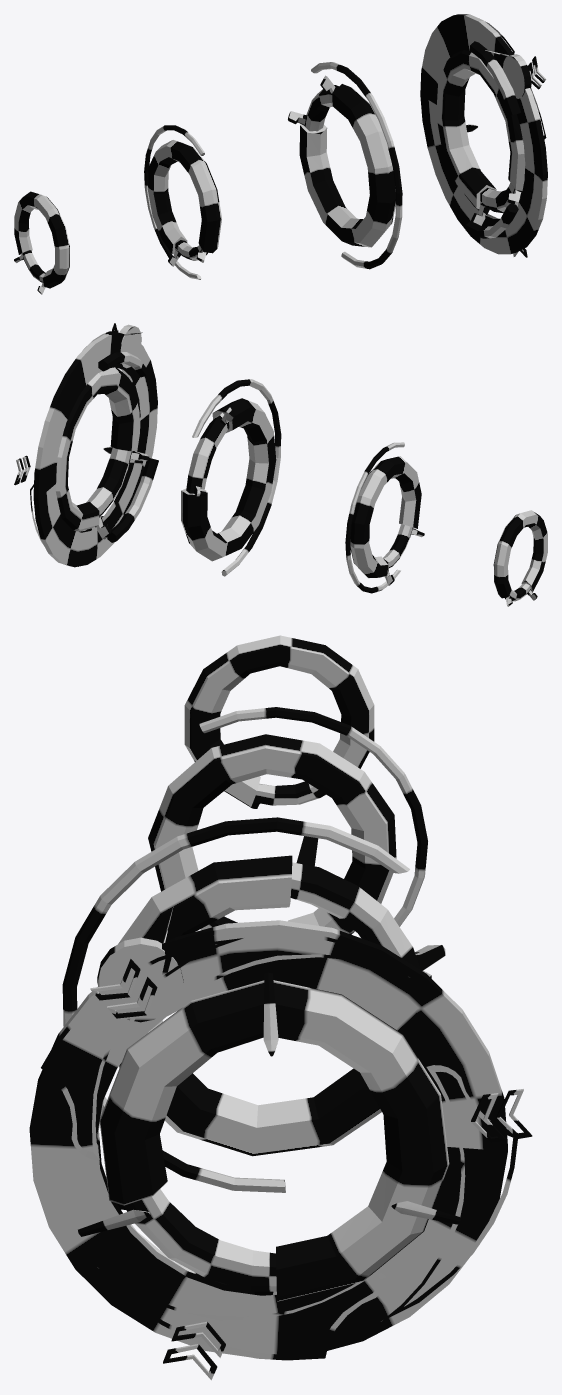
File: eventgate_highscore.obj
The picture shows the model from 3 angles, top to bottom: view 1: azimuth 30°, elevation 25°; view 2: azimuth 150°, elevation 25°; view 3: azimuth 270°, elevation 25°; orthographic projection. The views are drawn at different scales.
Visible parts, largest first — view 1: eventgate_highscore; view 2: eventgate_highscore; view 3: eventgate_highscore.
Boxes of the visible parts, left/top/right/bottom form: eventgate_highscore: left=14, top=14, right=547, bottom=294; eventgate_highscore: left=14, top=323, right=547, bottom=606; eventgate_highscore: left=29, top=635, right=532, bottom=1380.
Size of the model in its own units: 704 by 321 by 330.
Materials: 1 (1 with a texture image).
